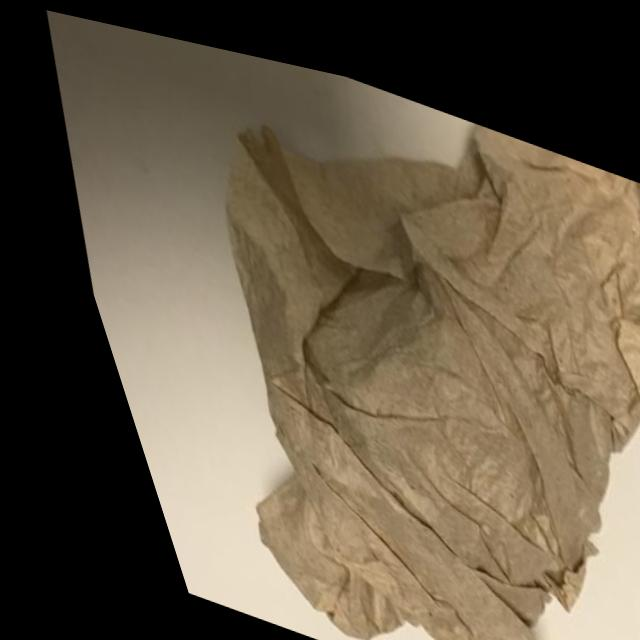trash: (34, 6, 640, 640)
